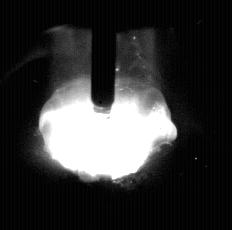arame: (91, 0, 116, 113)
poca: (38, 0, 172, 230)
